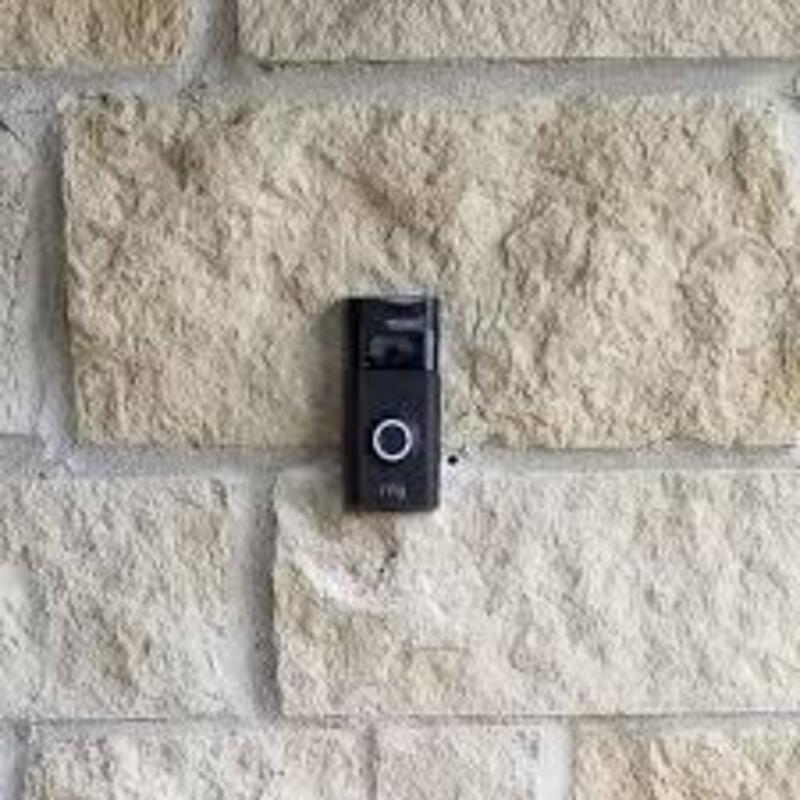doorbell: (331, 282, 449, 514)
